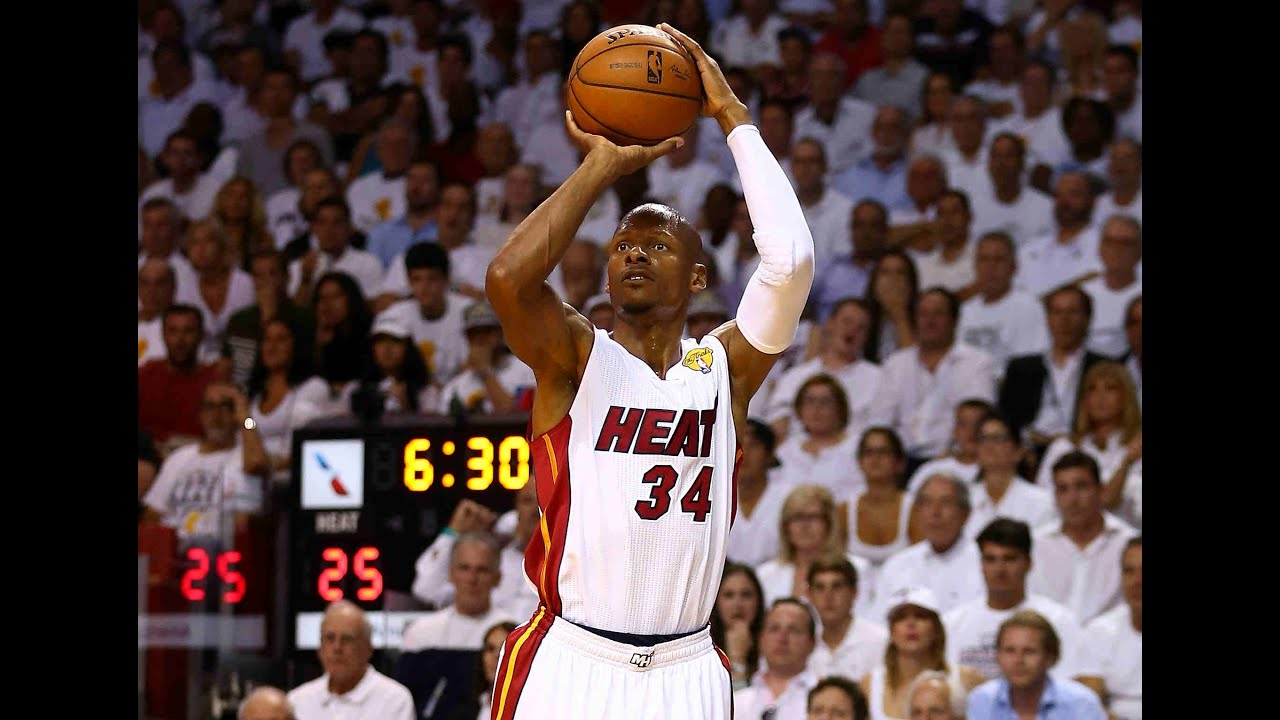Basketball: (557, 19, 707, 151)
